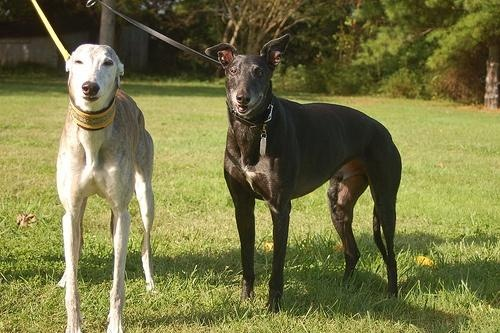dog: (206, 35, 403, 315), (57, 44, 156, 333)
